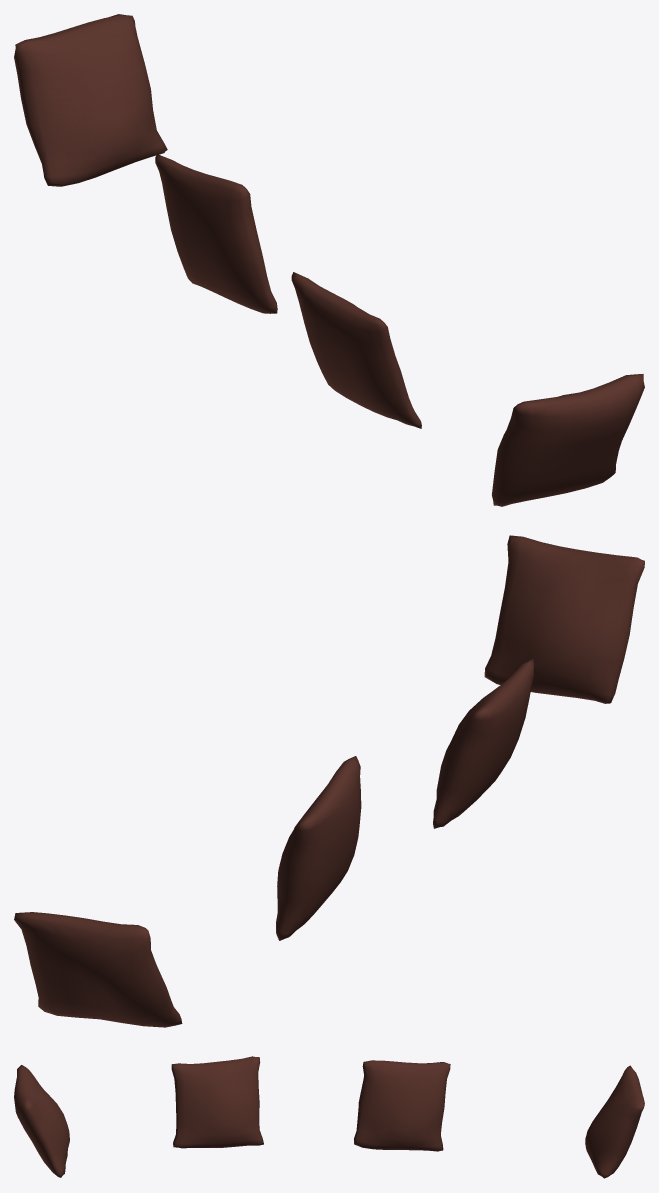
File: livingroom_cushions_small.fbx
3 renders of one model, top to bottom at view 1: azimuth 30°, elevation 25°; view 2: azimuth 150°, elevation 25°; view 3: azimuth 270°, elevation 25°, orthographic. The views are drawn at different scales.
Visible parts, largest first — view 1: sofa_03_300x100_pillow_01; view 2: sofa_03_300x100_pillow_01; view 3: sofa_03_300x100_pillow_01.
Boxes of the visible parts, left/top/right/bottom form: sofa_03_300x100_pillow_01: left=14, top=14, right=644, bottom=506; sofa_03_300x100_pillow_01: left=14, top=535, right=644, bottom=1027; sofa_03_300x100_pillow_01: left=14, top=1056, right=644, bottom=1178.
Size of the model in its own units: 50.6 by 41.29 by 273.
